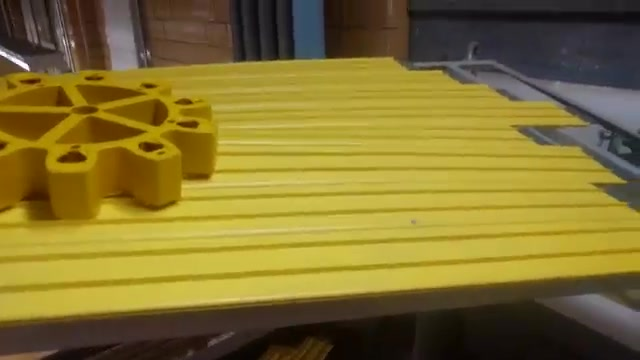gear: (1, 59, 220, 220)
